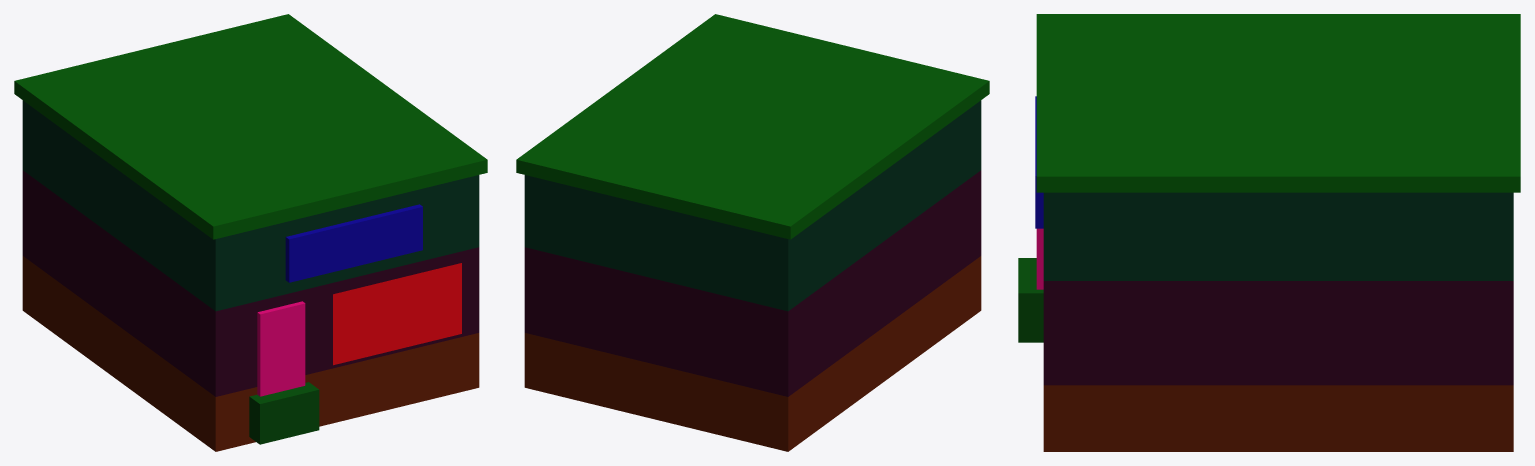
File: Building5.fbx
3 views of the same model, side by side, from view 1: azimuth 30°, elevation 25°; view 2: azimuth 150°, elevation 25°; view 3: azimuth 270°, elevation 25° (orthographic). The views are drawn at different scales.
Visible parts, largest first — view 1: Cube.002; view 2: Cube.002; view 3: Cube.002.
Part boxes in pixels (x1,y1,x2,y2): Cube.002: (14,14,487,451); Cube.002: (516,14,989,451); Cube.002: (1018,14,1520,451).
Bounding box in the file's own units: 1371 × 1093 × 1789.
